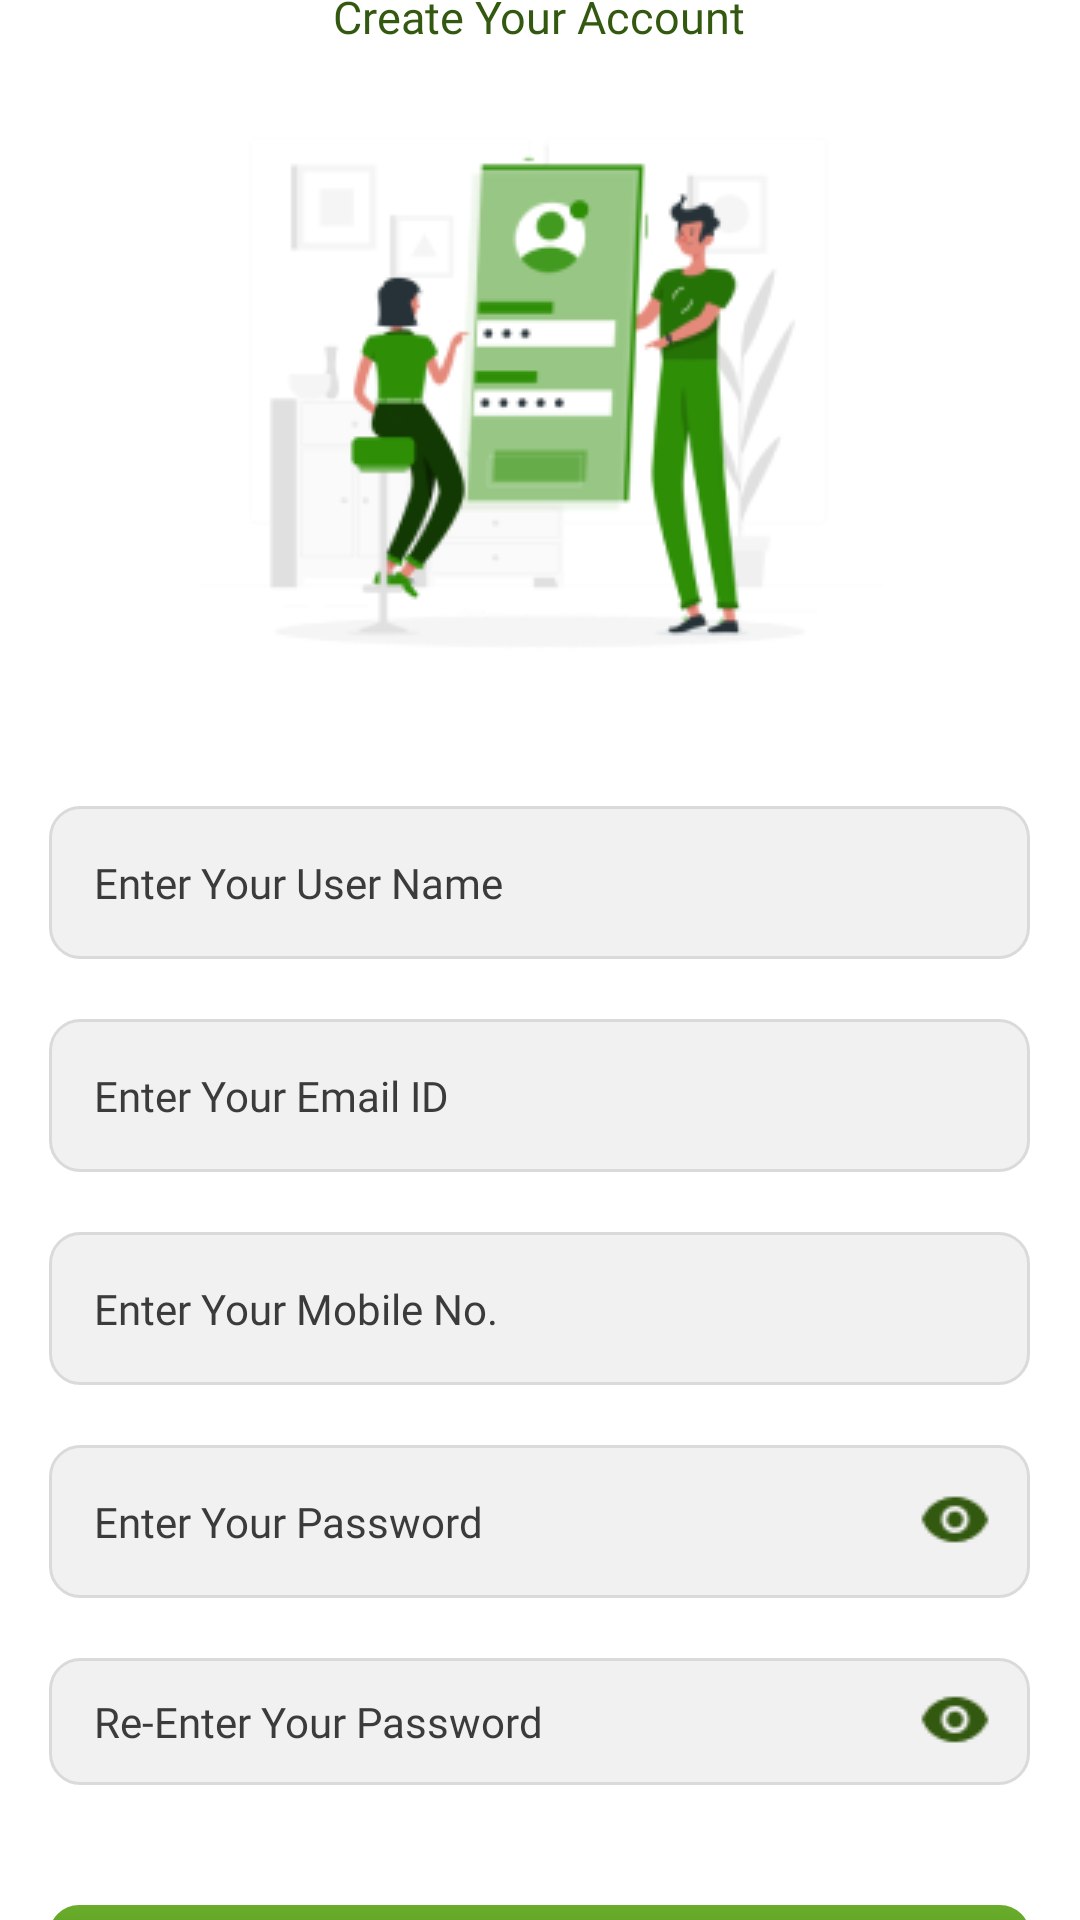

Icons on this 1080 × 1920 Android screen, each with the point to tap as [x,y]:
visibility: [955,1519], [955,1719]
